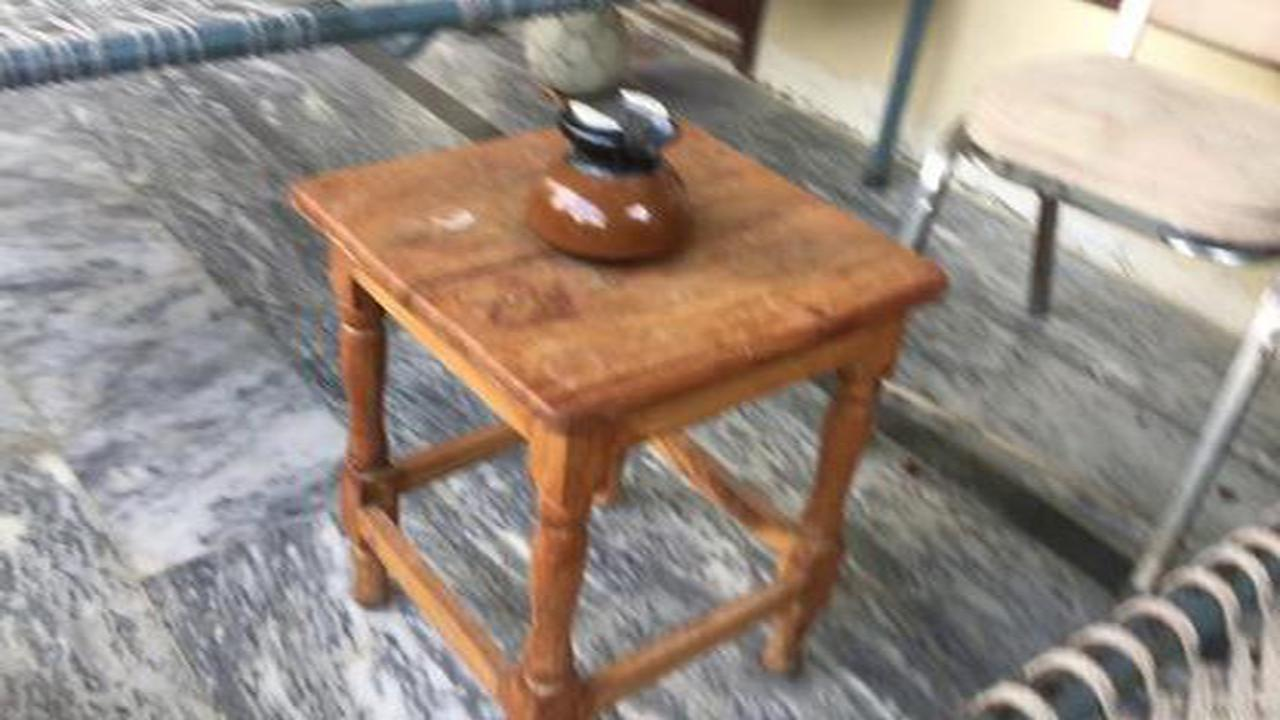insulator_pin: (517, 66, 721, 269)
